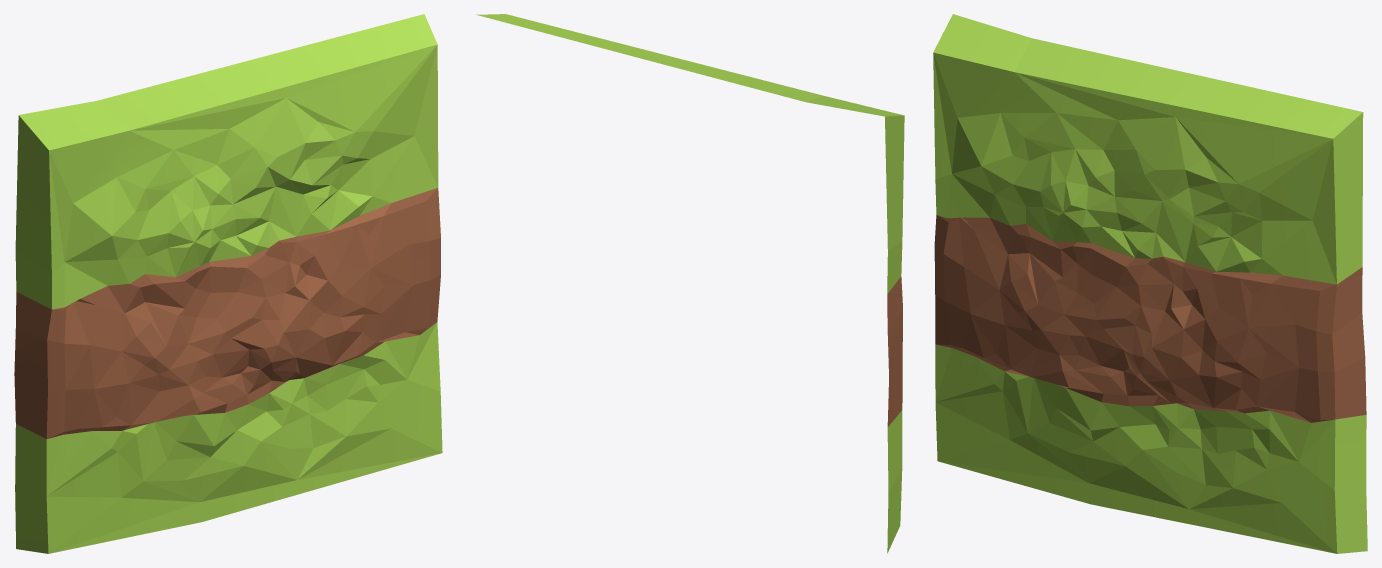
The model's file is road_tile_durt.gltf.
The picture shows the model from 3 angles, left to right: view 1: azimuth 30°, elevation 25°; view 2: azimuth 150°, elevation 25°; view 3: azimuth 330°, elevation 25°; orthographic projection.
Visible parts, largest first — view 1: PP_Meadow_Path_05.001_PP_Standard_Material_0 (×108); view 2: PP_Meadow_Path_05.001_PP_Standard_Material_0 (×7); view 3: PP_Meadow_Path_05.001_PP_Standard_Material_0 (×102).
Part boxes in pixels (x1,y1,x2,y2): PP_Meadow_Path_05.001_PP_Standard_Material_0 (×108): [14, 14, 442, 553]; PP_Meadow_Path_05.001_PP_Standard_Material_0 (×7): [476, 14, 904, 553]; PP_Meadow_Path_05.001_PP_Standard_Material_0 (×102): [933, 14, 1367, 553].
Bounding box in the file's own units: 22.75 × 22.85 × 3.33.
1 material, 1 textured.
